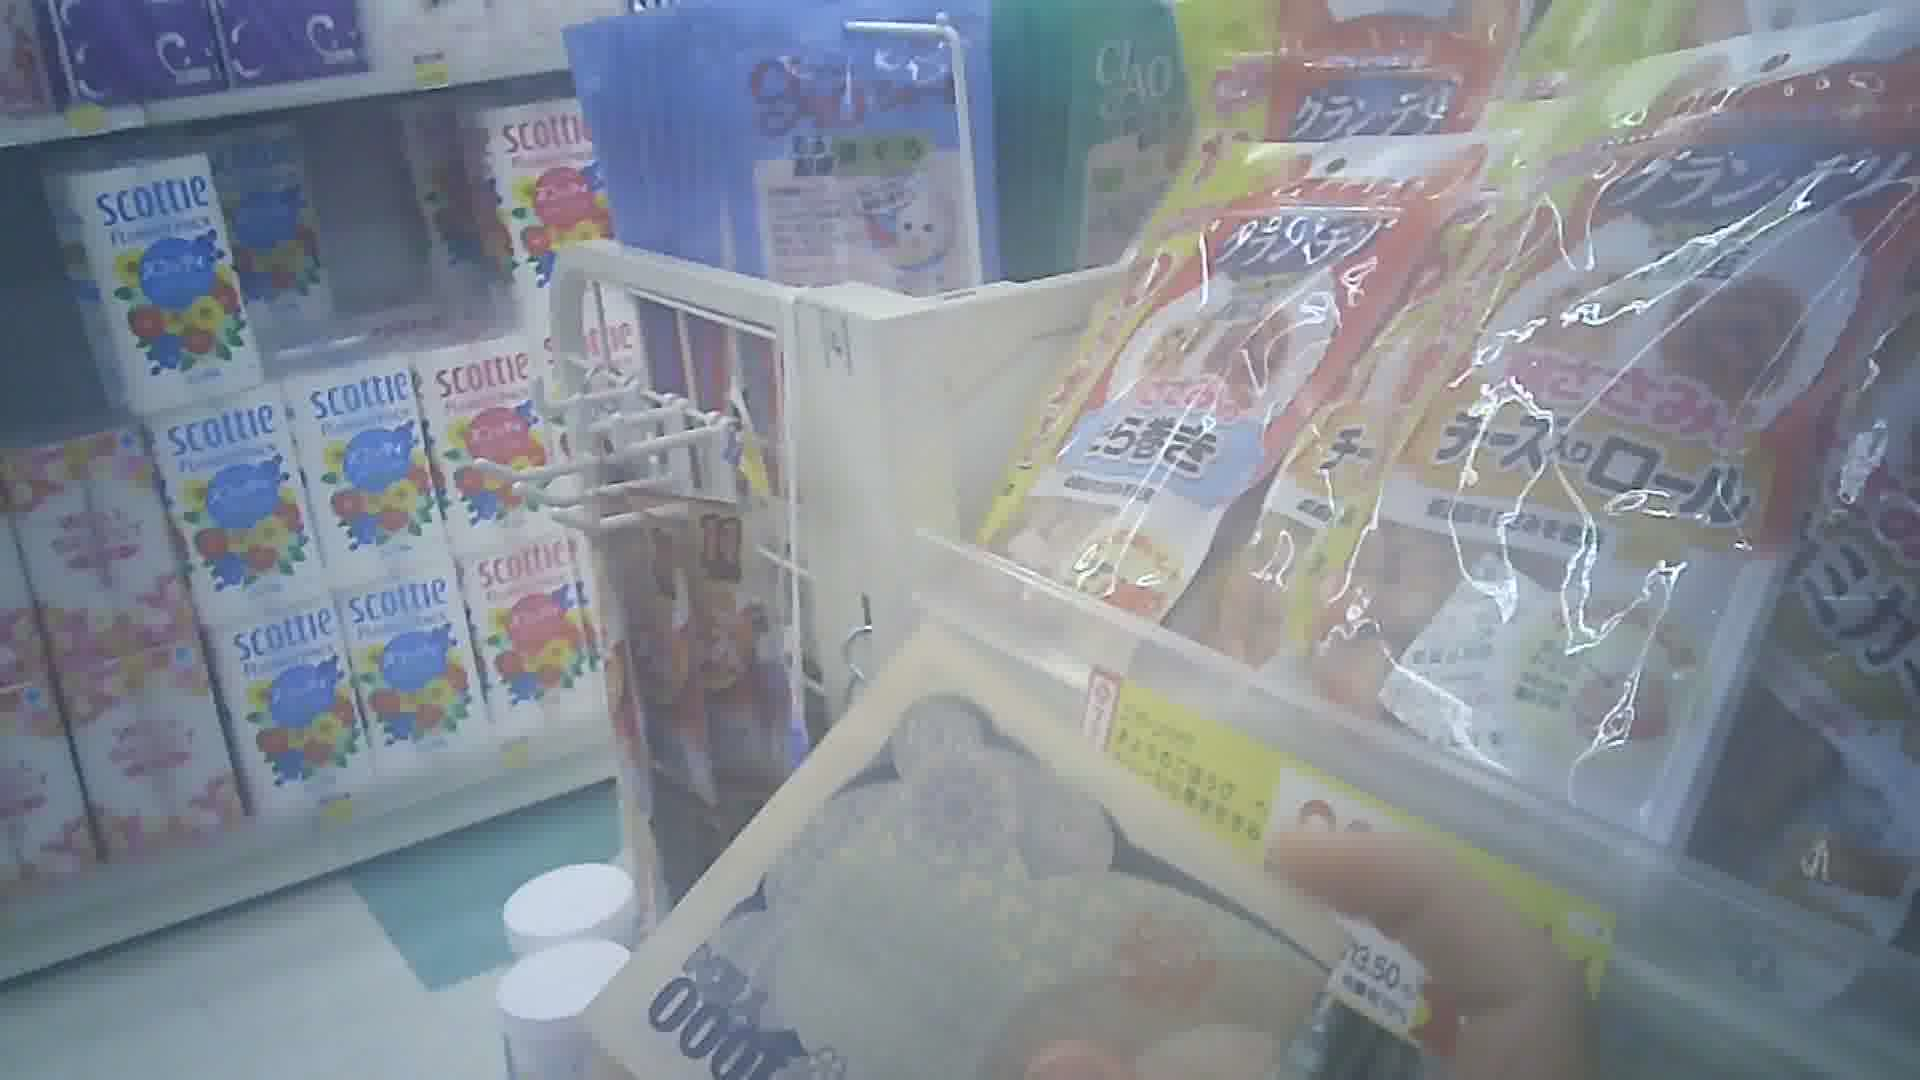1,000 Yen: (609, 640, 1323, 1079)
